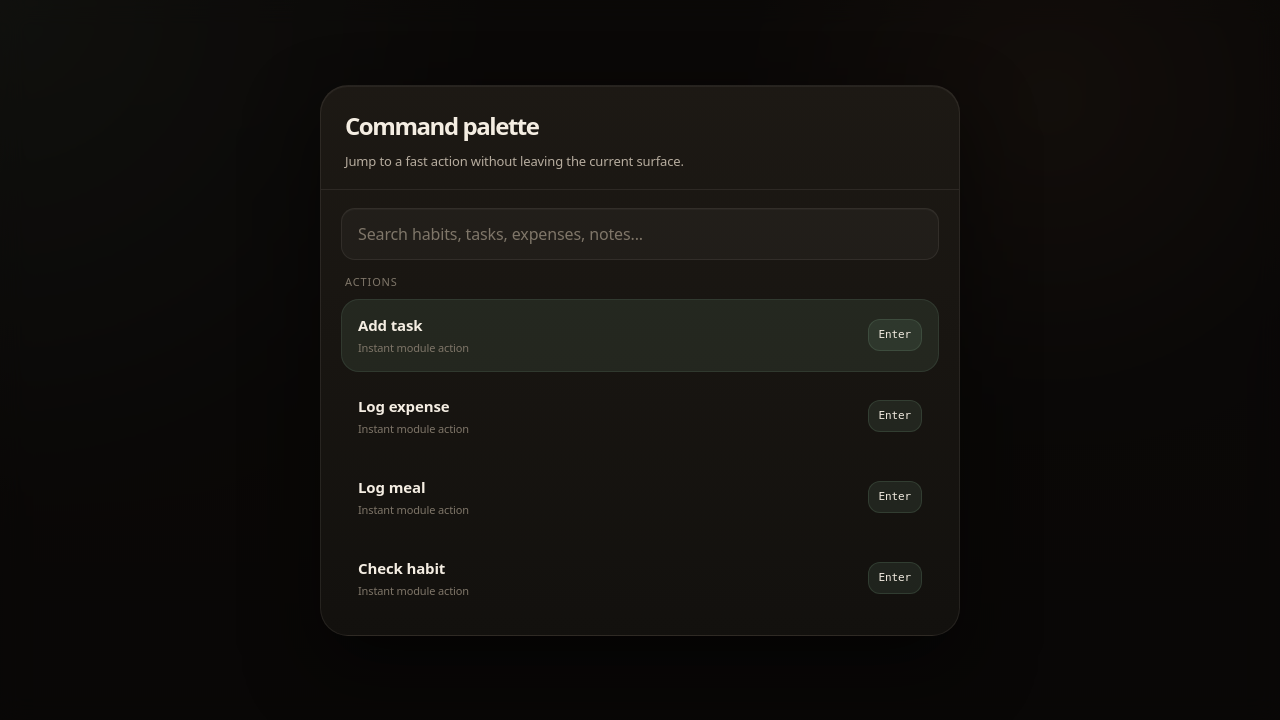
Test: CommandPalette search › shows an empty search state when the query has no matching results
Type "zzzz" into the field with placeholder "Search habits, tasks, expenses, notes...".
click(640, 234); type("zzzz")  # box [341,208,939,260]
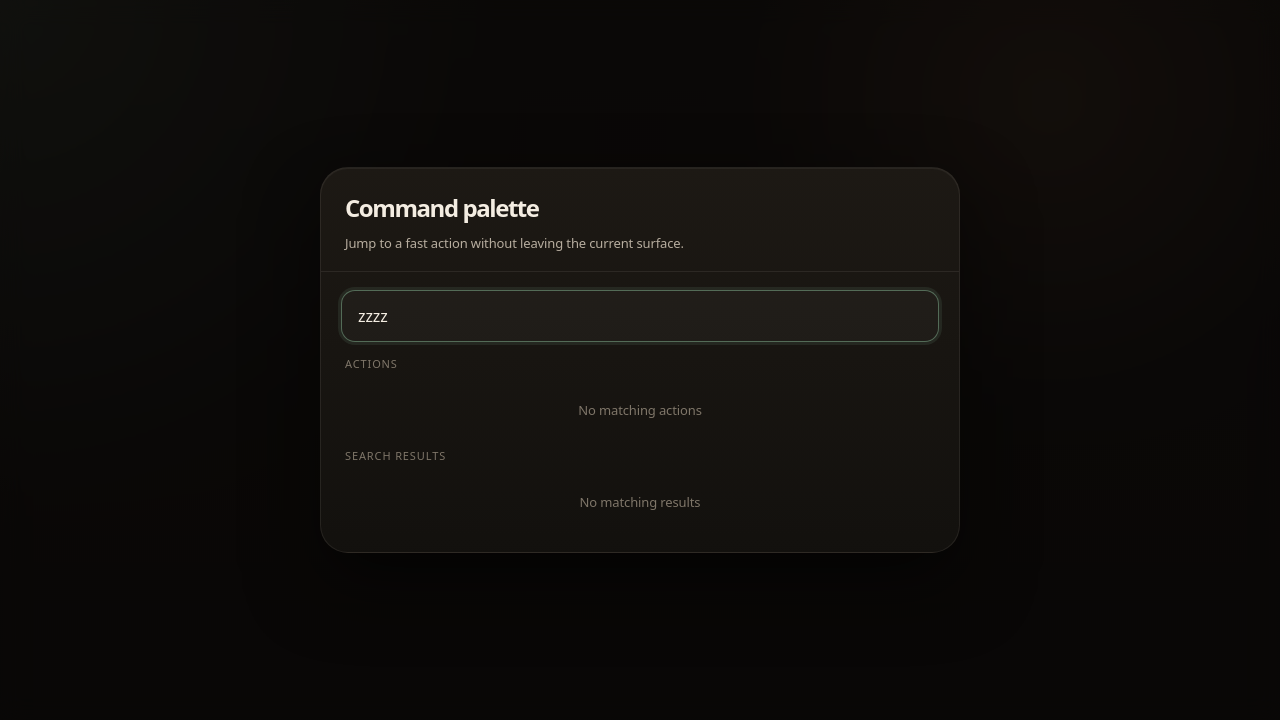
Check: the text "No matching results" is shown, box [580,493,700,511]
